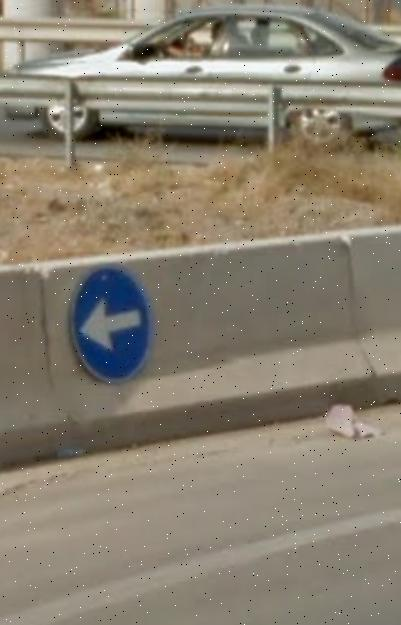turnleft: (70, 270, 157, 386)
